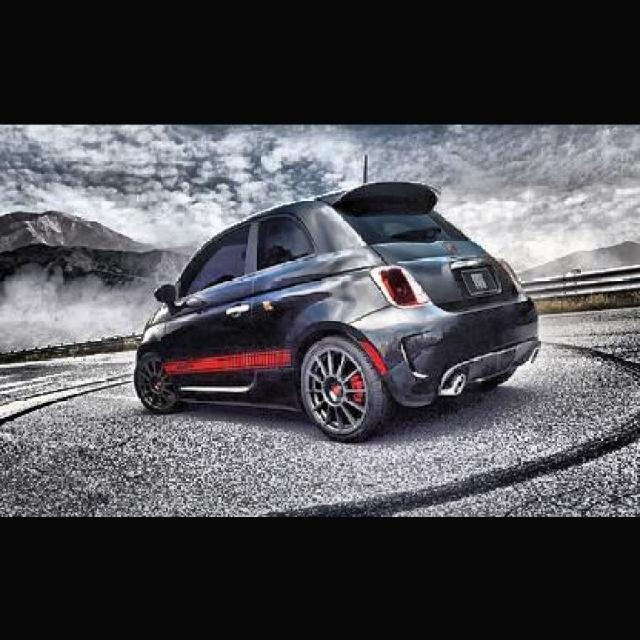black: (132, 182, 540, 436)
